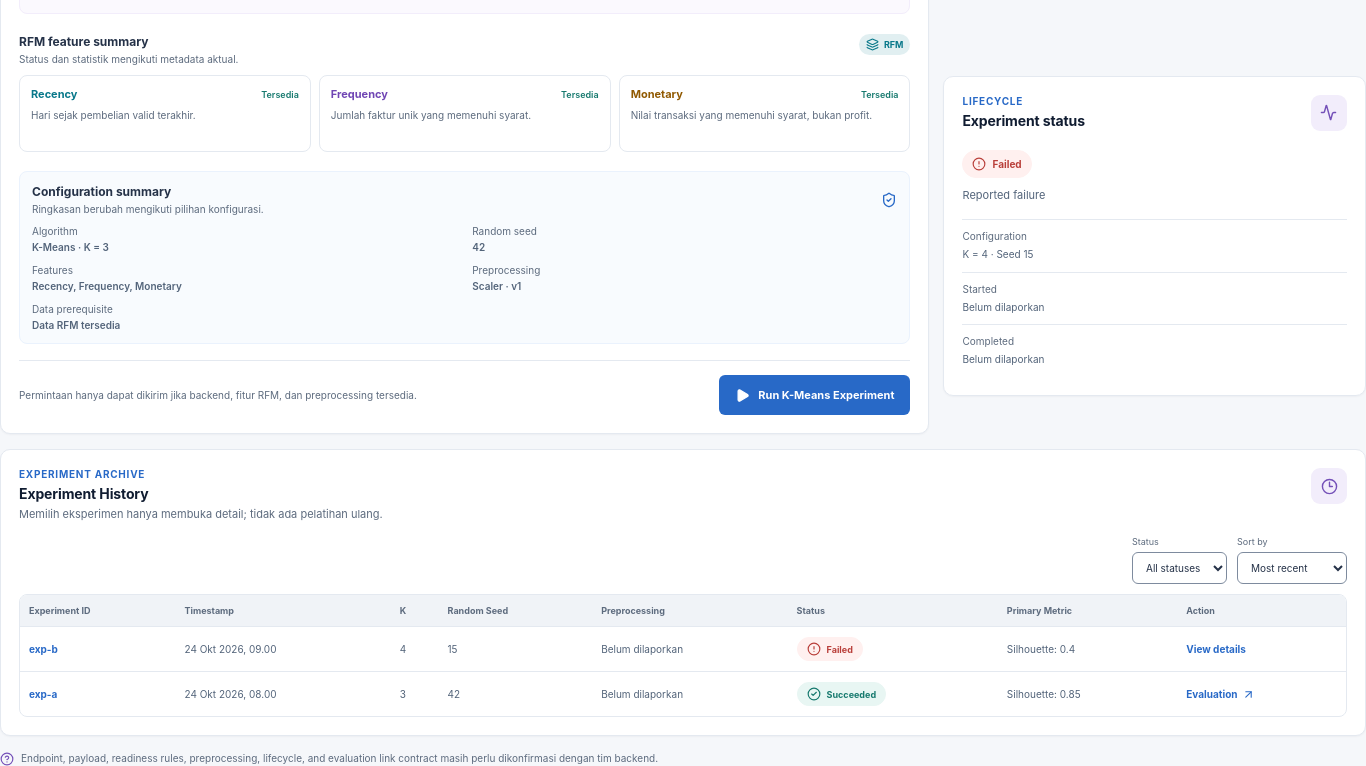
ML Studio page › filters and sorts actual experiment history and opens selected details without rerunning
This screenshot has width=1366, height=766.
(page scrolled)
Expected: the button "exp-a" is shown, [29,688,57,700]
Select "Primary metric" in the dropdown named "Sort experiment history": x=1292, y=568 [1237,552,1347,584]
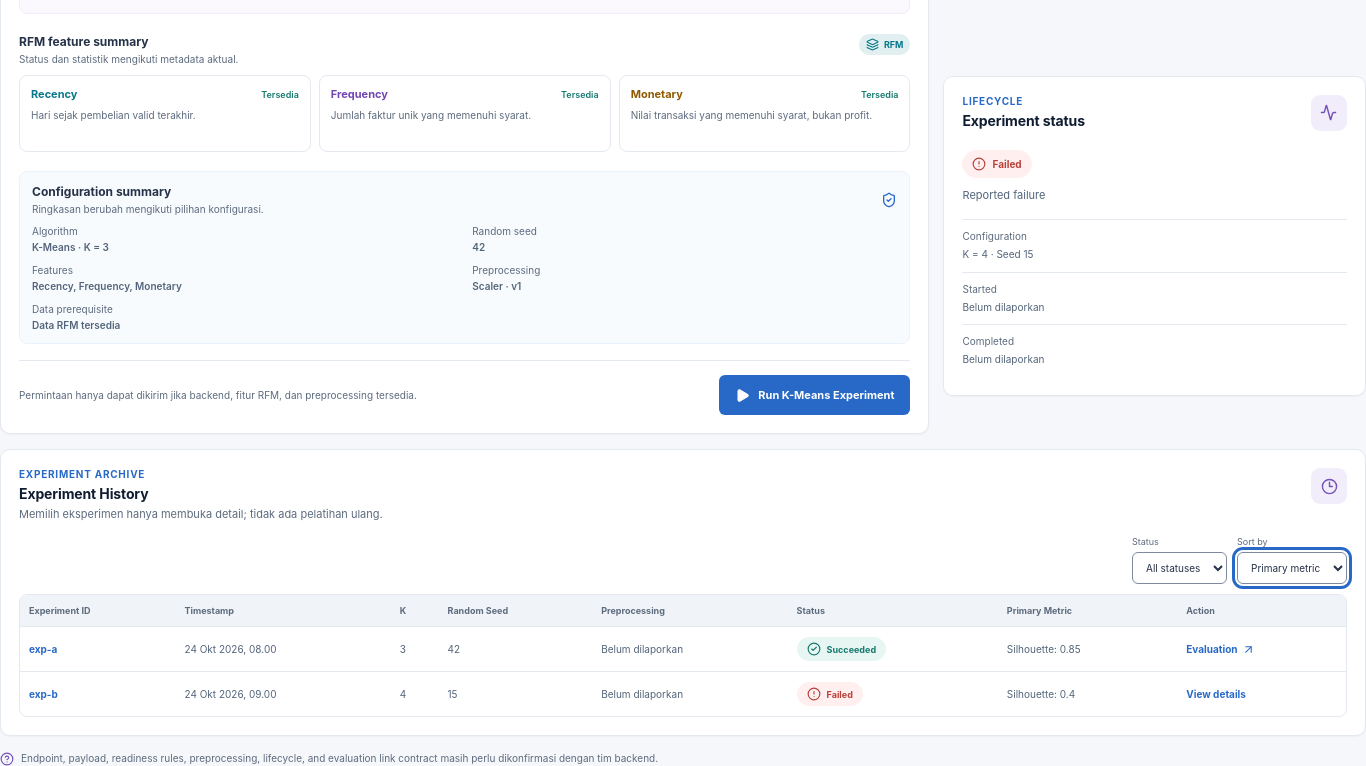
Click the button "exp-a": x=43, y=649 [29,643,57,655]
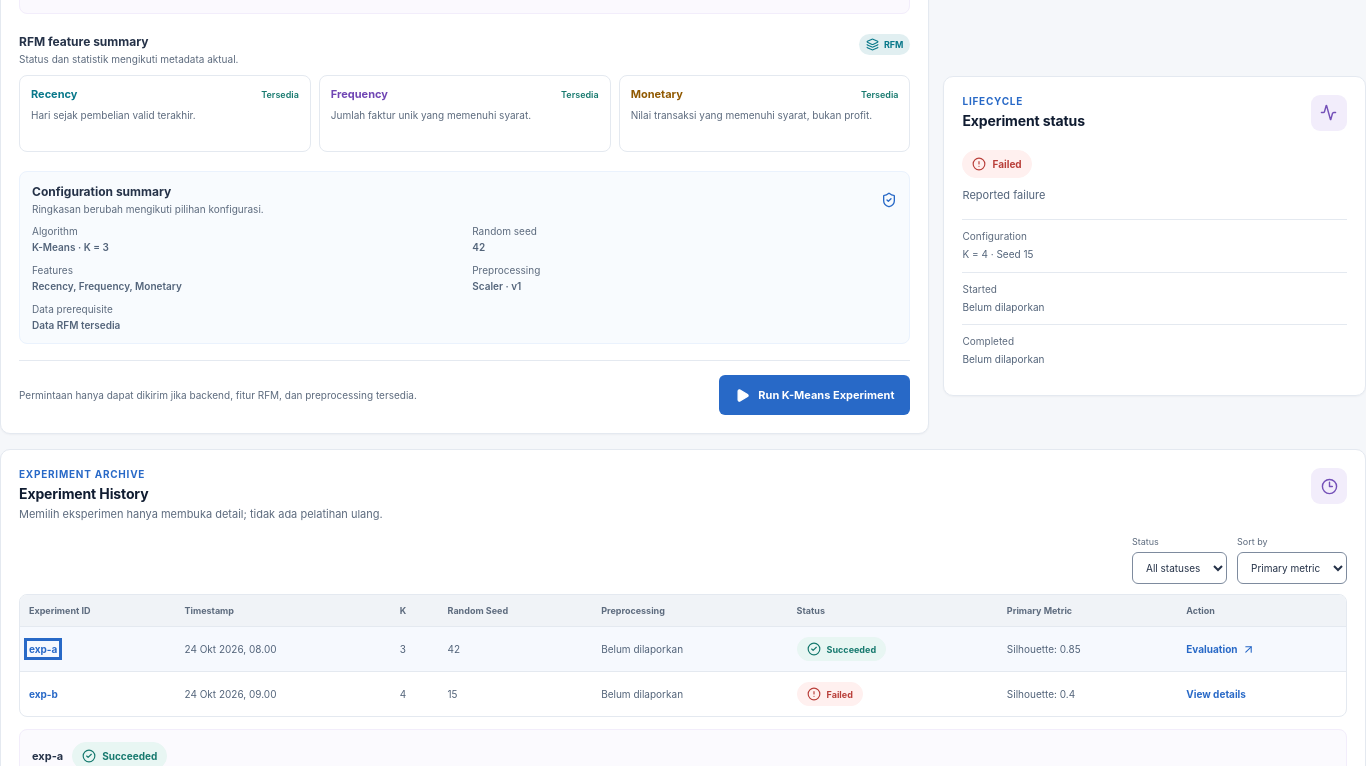
Select "Failed" in the dropdown named "Filter experiment status": x=1180, y=568 [1132,552,1227,584]
(page scrolled)
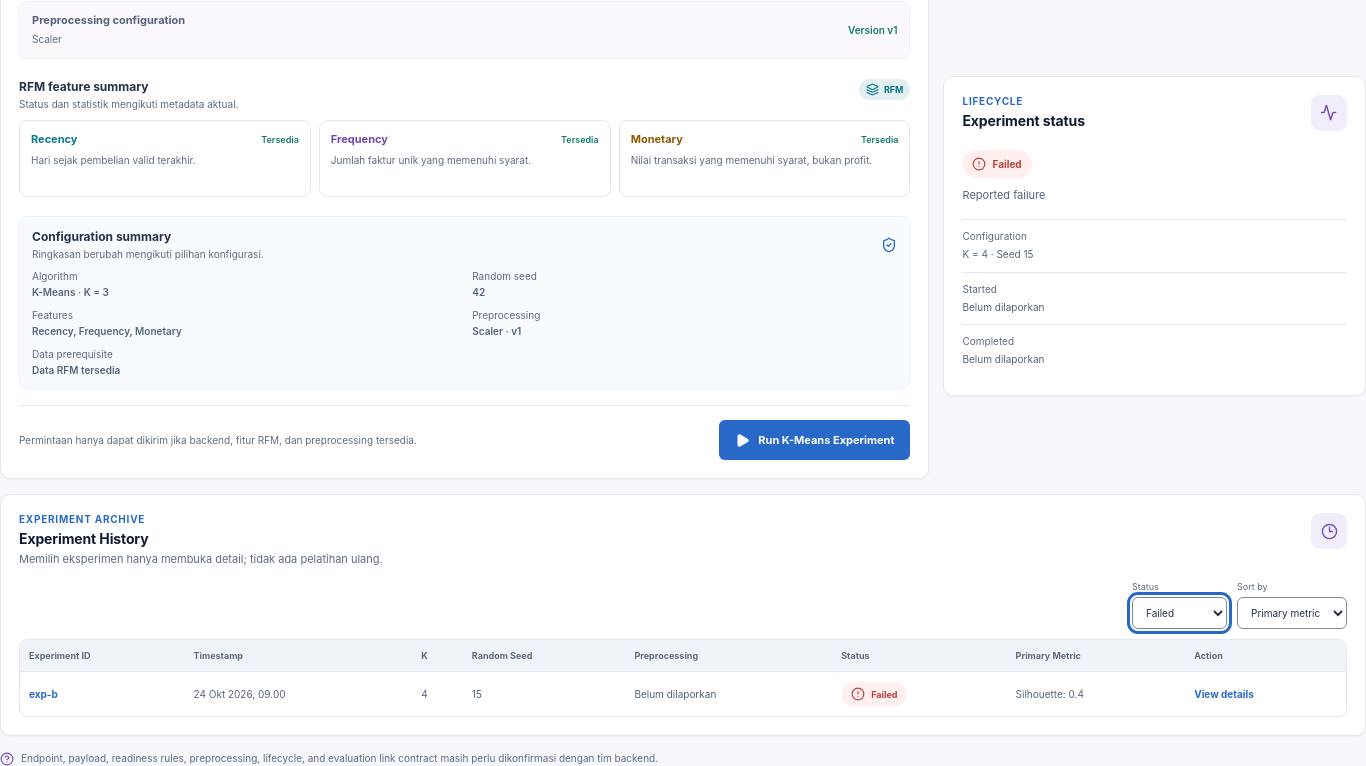
Expected: the button "exp-b" is shown, [29,688,58,700]
Expected: the button "exp-a" is gone
